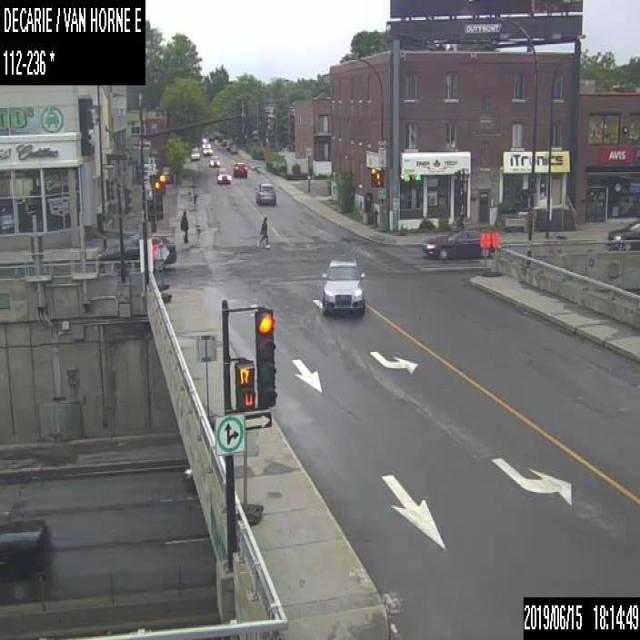construction: (232, 427, 262, 523), (193, 332, 216, 426), (153, 239, 170, 302), (489, 230, 501, 275), (478, 230, 490, 274)
pedestrian: (256, 215, 269, 249), (178, 208, 188, 244)
vehicle: (0, 520, 50, 597), (102, 231, 176, 268), (320, 256, 366, 312), (421, 228, 483, 259), (607, 217, 639, 249), (254, 182, 274, 203), (183, 465, 194, 489), (216, 167, 231, 182), (232, 161, 246, 177), (209, 154, 219, 166), (189, 147, 199, 159), (202, 146, 212, 155), (230, 143, 237, 153)
